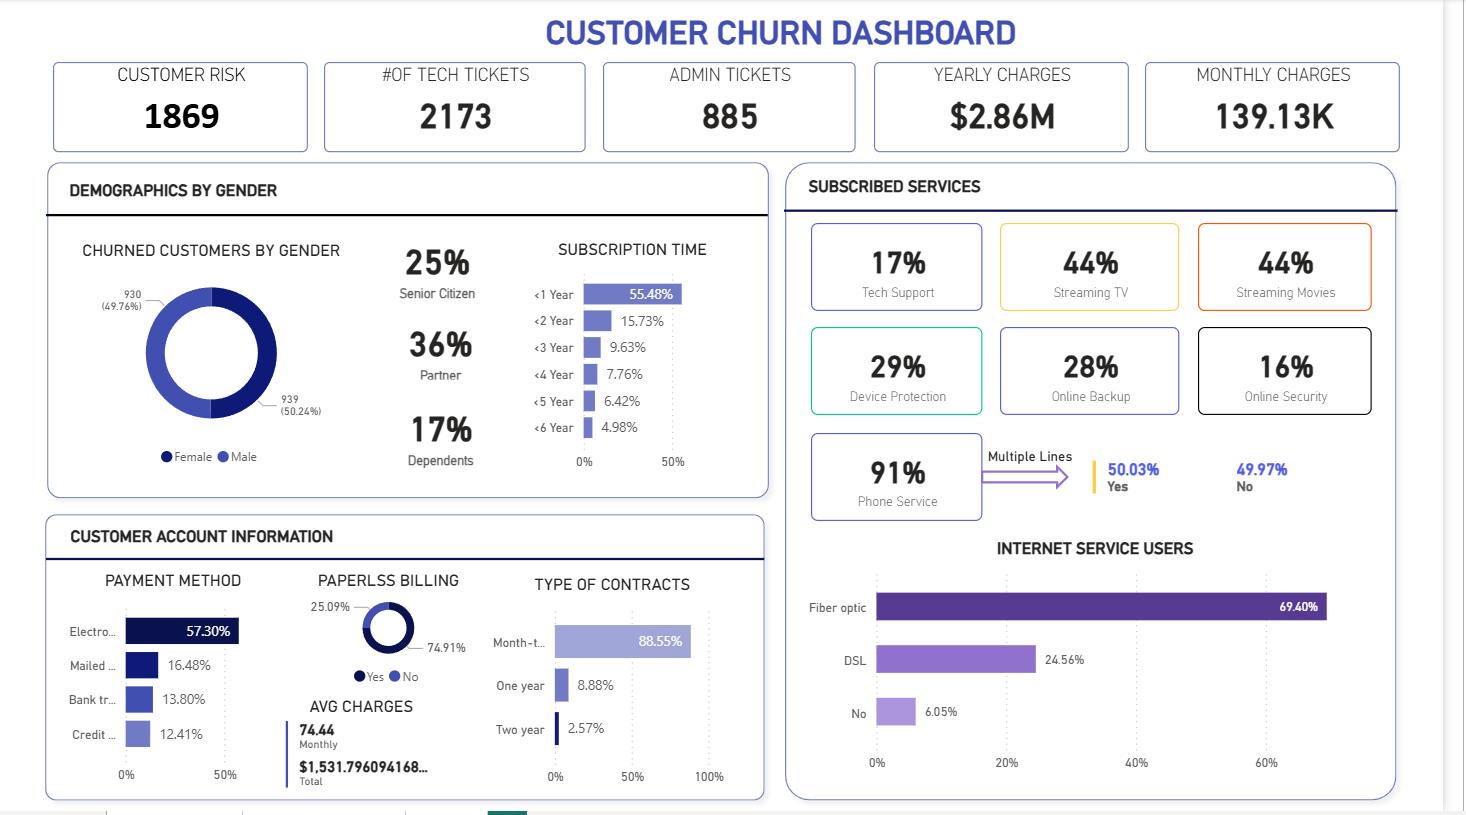

The page's visual inventory and layout, read from the dashboard file:
{"tool":"powerbi","page":{"name":"Churn Dashboard","canvas":[1280,720],"ordinal":0},"visuals":[{"type":"shape","box":[0,0,1280,49],"z":0},{"type":"shape","box":[34,136,658,316],"z":0,"group":"g1"},{"type":"card","fields":{"Values":["Churn.% Tech Support"]},"box":[720,199,152.4,78.4],"z":0,"group":"g4"},{"type":"shape","box":[688,136,560,584],"z":1000},{"type":"card","fields":{"Values":["Churn.% Streaming TV"]},"box":[887.4,199,159.5,78.4],"z":1000,"group":"g4"},{"type":"donutChart","title":"CHURNED CUSTOMERS BY GENDER","fields":{"Category":["01 Churn-Dataset.gender"],"Y":["CountNonNull(01 Churn-Dataset.gender)"]},"box":[61.1,204.4,252.2,223.4],"z":1000,"group":"g1"},{"type":"shape","box":[696,120,544,136],"z":1500,"group":"g3"},{"type":"shape","box":[42,430,636.8,133],"z":1500,"group":"g2"},{"type":"textbox","box":[480,8,536,48],"z":2000},{"type":"textbox","box":[697.8,142.5,530.4,38.9],"z":2000,"group":"g3"},{"type":"textbox","box":[42.7,146.1,630.9,47.3],"z":2000,"group":"g1"},{"type":"card","fields":{"Values":["Churn.% Streaming Movies"]},"box":[1062.8,199,154.2,78.4],"z":2000,"group":"g4"},{"type":"textbox","box":[44.2,452,636.8,38],"z":2000,"group":"g2"},{"type":"card","fields":{"Values":["Churn.% of Senior Citizen"]},"box":[330.5,204.4,118,77.5],"z":3000,"group":"g1"},{"type":"card","fields":{"Values":["Churn.% Device Protection"]},"box":[720,291.6,152.4,78.4],"z":3000,"group":"g4"},{"type":"shape","box":[32,448,656,272],"z":3000},{"type":"card","title":"CUSTOMER RISK","fields":{"Values":["CountNonNull(01 Churn-Dataset.customerID)"]},"box":[48,56,226,80],"z":4000},{"type":"card","fields":{"Values":["Churn.% of partner"]},"box":[329.5,278.9,125.5,74.5],"z":4000,"group":"g1"},{"type":"card","fields":{"Values":["Churn.% Online Backup"]},"box":[887.4,291.6,159.5,78.4],"z":4000,"group":"g4"},{"type":"shape","box":[42,152,640,80],"z":5000,"group":"g1"},{"type":"card","fields":{"Values":["Churn.% Online Sec"]},"box":[1062.8,291.6,154.2,78.4],"z":5000,"group":"g4"},{"type":"card","fields":{"Values":["Churn.% Phone Service"]},"box":[720,385,152,78],"z":5000},{"type":"card","title":"#OF TECH TICKETS","fields":{"Values":["Sum(01 Churn-Dataset.numTechTickets)"]},"box":[288,56,232,80],"z":6000},{"type":"card","fields":{"Values":["Churn.% of Dependents"]},"box":[329.5,351.4,125.5,79.5],"z":6000,"group":"g1"},{"type":"clusteredBarChart","title":"SUBSCRIPTION TIME","fields":{"Y":["CountNonNull(Churn.Churn)"],"Category":["Churn.Tenure(in years)"]},"box":[466.9,204.4,190.5,220.4],"z":7000,"group":"g1"},{"type":"clusteredBarChart","title":"PAYMENT METHOD","fields":{"Y":["CountNonNull(Churn.PaymentMethod)"],"Category":["Churn.PaymentMethod"]},"box":[44,497,220,204],"z":7000},{"type":"card","title":"YEARLY CHARGES","fields":{"Values":["Sum(01 Churn-Dataset.TotalCharges)"]},"box":[776,56,226,80],"z":8000},{"type":"card","title":"ADMIN TICKETS","fields":{"Values":["Sum(01 Churn-Dataset.numAdminTickets)"]},"box":[536,56,224,80],"z":9000},{"type":"group","id":"g1","title":"Group 1","box":[34,136,658,316],"z":10000},{"type":"card","title":"MONTHLY CHARGES","fields":{"Values":["Sum(01 Churn-Dataset.MonthlyCharges)"]},"box":[1016,56,226,80],"z":11000},{"type":"donutChart","title":"PAPERLSS BILLING","fields":{"Category":["Churn.PaperlessBilling"],"Y":["CountNonNull(Churn.PaperlessBilling)"]},"box":[248,497,194,126],"z":12000},{"type":"multiRowCard","title":"AVG CHARGES","fields":{"Values":["Avg(Churn.MonthlyCharges)","Avg(Churn.TotalCharges)"]},"box":[248,608,144,96],"z":13000},{"type":"clusteredBarChart","title":"TYPE OF CONTRACTS","fields":{"Category":["Churn.Contract"],"Y":["CountNonNull(Churn.Contract)"]},"box":[416,496,256,208],"z":14000},{"type":"group","id":"g2","title":"Group 2","box":[42,430,639,133],"z":15000},{"type":"group","id":"g3","title":"Group 2","box":[696,120,544,136],"z":16000},{"type":"group","id":"g4","title":"Group 3","box":[720,199,497,171],"z":17000},{"type":"shape","box":[871,412,78,23],"z":18000},{"type":"textbox","box":[872,391,300,30],"z":19000},{"type":"multiRowCard","fields":{"Values":["Churn.% Yes-Multiple Lines","Churn.% No-Multiple Lines"]},"box":[965,404,252,53],"z":20000},{"type":"barChart","title":"INTERNET SERVICE USERS","fields":{"Y":["CountNonNull(Churn.InternetService)"],"Category":["Churn.InternetService"]},"box":[712,464,520,232],"z":21000}]}

Visuals, with their boxes in screenshot pixels (x1, y1, x2, y2), scaled from the page's 1280x720 canvas onto the 1466x815 screenshot:
shape: detection(0, 0, 1465, 55)
shape: detection(39, 154, 793, 512)
card - Churn.% Tech Support: detection(825, 225, 999, 314)
shape: detection(788, 154, 1429, 814)
card - Churn.% Streaming TV: detection(1016, 225, 1199, 314)
"CHURNED CUSTOMERS BY GENDER" donutChart: detection(70, 231, 359, 484)
shape: detection(797, 136, 1420, 290)
shape: detection(48, 487, 777, 637)
textbox: detection(550, 9, 1164, 63)
textbox: detection(799, 161, 1407, 205)
textbox: detection(49, 165, 771, 219)
card - Churn.% Streaming Movies: detection(1217, 225, 1394, 314)
textbox: detection(51, 512, 780, 555)
card - Churn.% of Senior Citizen: detection(379, 231, 514, 319)
card - Churn.% Device Protection: detection(825, 330, 999, 419)
shape: detection(37, 507, 788, 814)
"CUSTOMER RISK" card: detection(55, 63, 314, 154)
card - Churn.% of partner: detection(377, 316, 521, 400)
card - Churn.% Online Backup: detection(1016, 330, 1199, 419)
shape: detection(48, 172, 781, 263)
card - Churn.% Online Sec: detection(1217, 330, 1394, 419)
card - Churn.% Phone Service: detection(825, 436, 999, 524)
"#OF TECH TICKETS" card: detection(330, 63, 596, 154)
card - Churn.% of Dependents: detection(377, 398, 521, 488)
"SUBSCRIPTION TIME" clusteredBarChart: detection(535, 231, 753, 481)
"PAYMENT METHOD" clusteredBarChart: detection(50, 563, 302, 793)
"YEARLY CHARGES" card: detection(889, 63, 1148, 154)
"ADMIN TICKETS" card: detection(614, 63, 870, 154)
"Group 1" group: detection(39, 154, 793, 512)
"MONTHLY CHARGES" card: detection(1164, 63, 1422, 154)
"PAPERLSS BILLING" donutChart: detection(284, 563, 506, 705)
"AVG CHARGES" multiRowCard: detection(284, 688, 449, 797)
"TYPE OF CONTRACTS" clusteredBarChart: detection(476, 561, 770, 797)
"Group 2" group: detection(48, 487, 780, 637)
"Group 2" group: detection(797, 136, 1420, 290)
"Group 3" group: detection(825, 225, 1394, 419)
shape: detection(998, 466, 1087, 492)
textbox: detection(999, 443, 1342, 477)
multiRowCard - Churn.% Yes-Multiple Lines x Churn.% No-Multiple Lines: detection(1105, 457, 1394, 517)
"INTERNET SERVICE USERS" barChart: detection(815, 525, 1411, 788)
